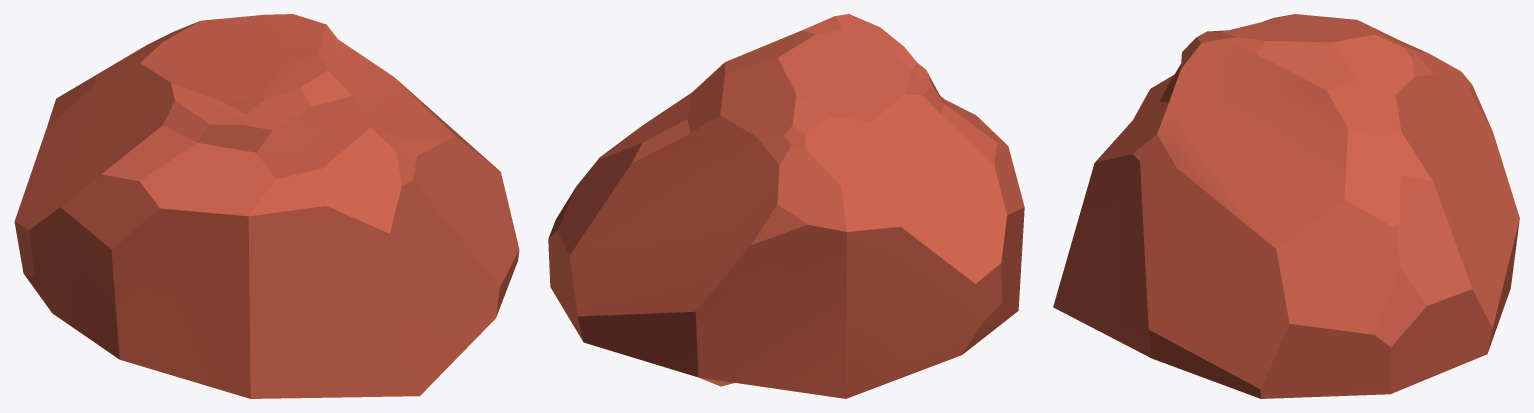
Rendered from Rock_1.fbx.
3 views of the same model, side by side, from view 1: azimuth 30°, elevation 25°; view 2: azimuth 150°, elevation 25°; view 3: azimuth 270°, elevation 25° (orthographic). The views are drawn at different scales.
Parts seen in each view (by area): view 1: Rock1; view 2: Rock1; view 3: Rock1.
Boxes of the visible parts, bbox=[...] form: Rock1: bbox=[14, 14, 519, 398]; Rock1: bbox=[548, 14, 1024, 398]; Rock1: bbox=[1053, 14, 1519, 398].
Size of the model in its own units: 115 by 71.91 by 109.
